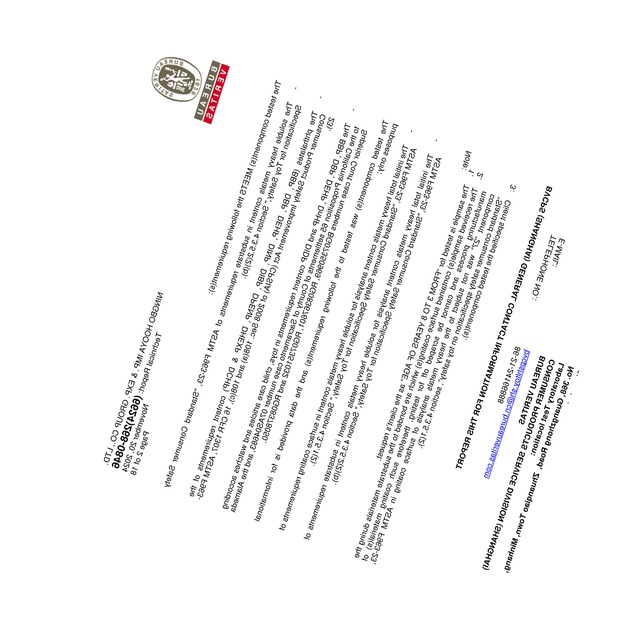bureau_veritas: (147, 48, 229, 130)
